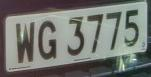3: (65, 13, 87, 56)
5: (122, 8, 142, 48)
7: (83, 11, 106, 55), (104, 9, 123, 51)
G: (36, 15, 60, 66)
W: (13, 19, 38, 70)
